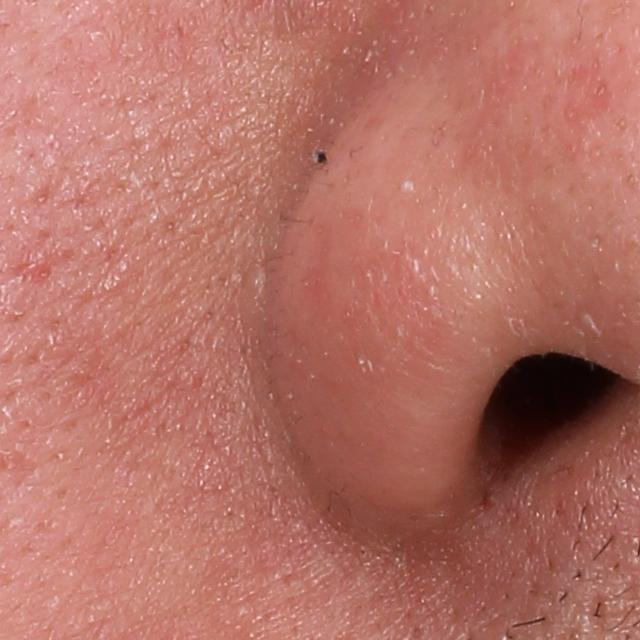comedo: (308, 144, 331, 172)
